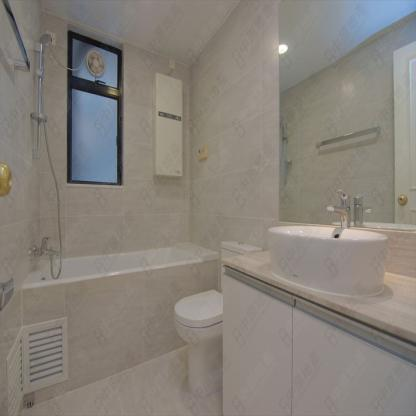Bathtub: (22, 245, 202, 411)
Exhaust Fan: (84, 49, 107, 78)
Faucet: (328, 181, 352, 231)
Toilet: (173, 238, 262, 400)
Toilet Sink: (266, 223, 392, 297)
Water Heater: (153, 70, 187, 179)
